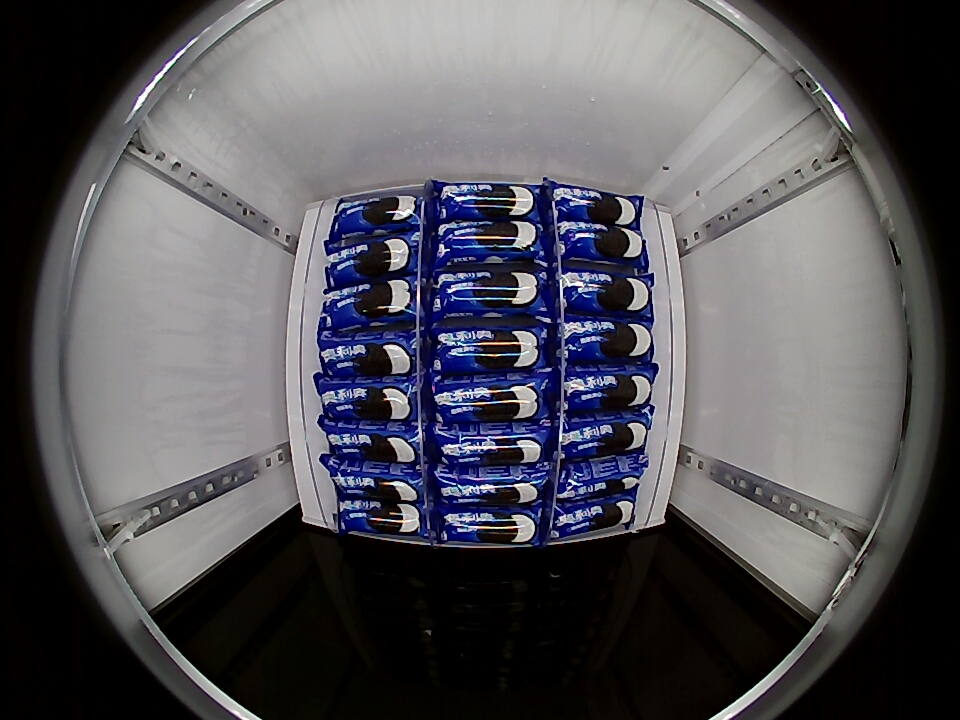aoliao: (430, 367, 554, 422), (431, 318, 549, 374), (431, 266, 549, 322), (432, 218, 547, 271), (432, 415, 551, 464), (324, 223, 418, 285), (435, 498, 544, 548), (434, 457, 549, 504), (315, 371, 418, 422), (432, 179, 541, 227), (319, 413, 428, 460), (547, 489, 637, 545), (561, 358, 656, 410), (329, 188, 424, 240), (559, 407, 649, 460), (317, 334, 424, 378), (559, 310, 650, 361), (551, 228, 651, 274), (329, 456, 427, 502), (545, 179, 635, 227), (555, 272, 656, 314), (317, 289, 415, 332), (557, 453, 646, 500), (334, 496, 429, 540)
